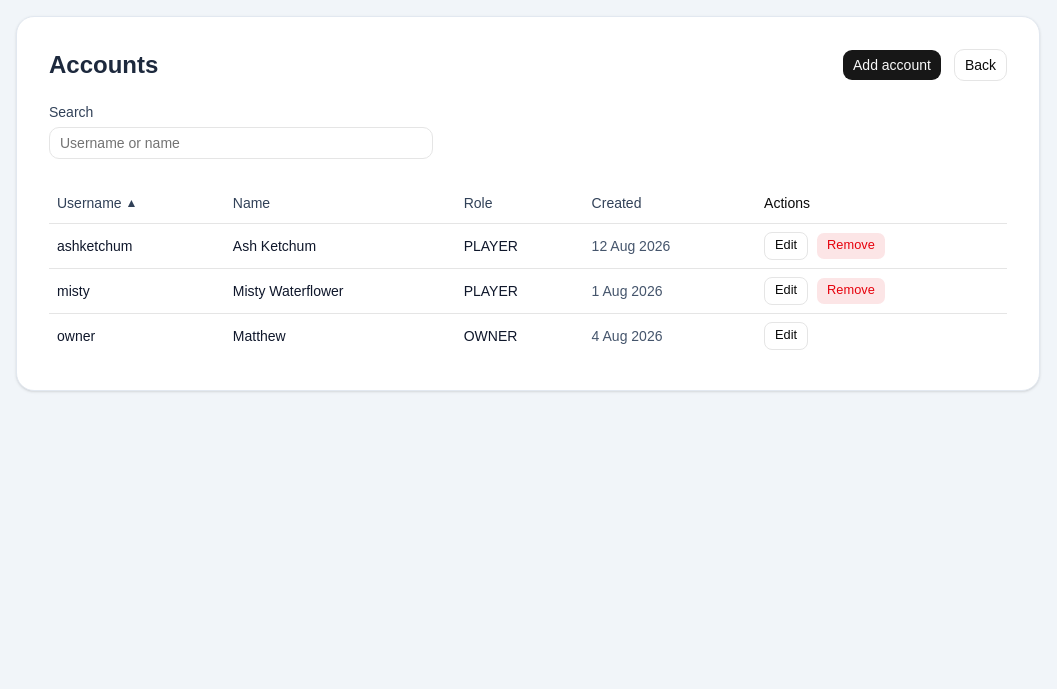
it: AccountsPage › refuses a password that is too short without sending anything at all
Expected: the text "ashketchum" is shown, [49,223,225,268]
Click the button "Add account" at (892, 65), box [842,49,942,81]
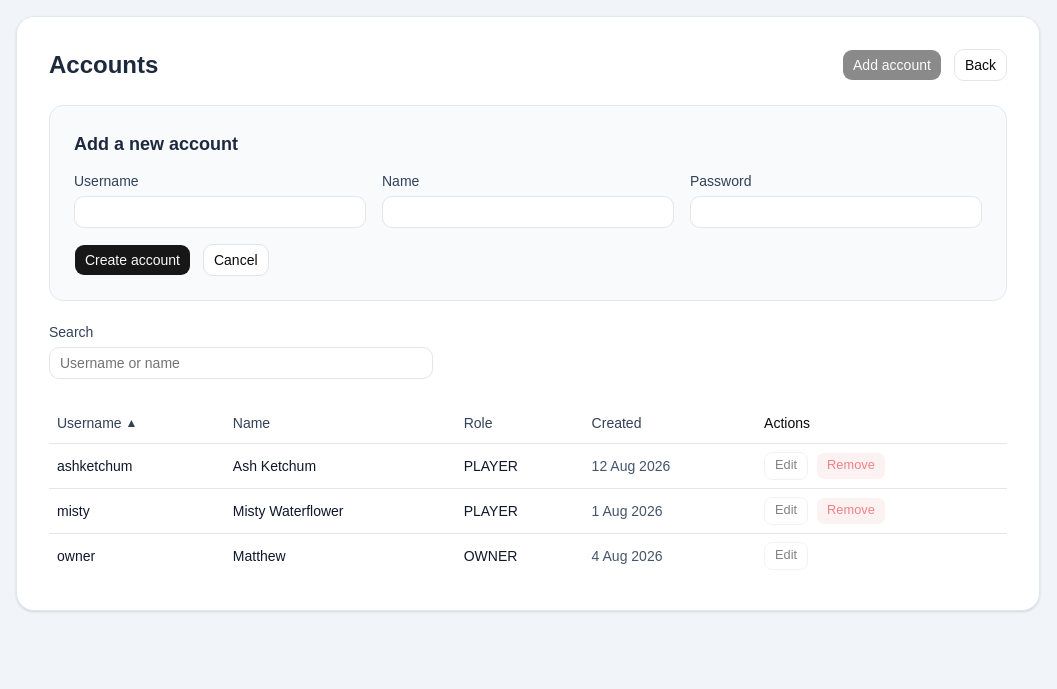
Type "brock" into the field labelled "Username" at (220, 212), box [74,196,366,228]
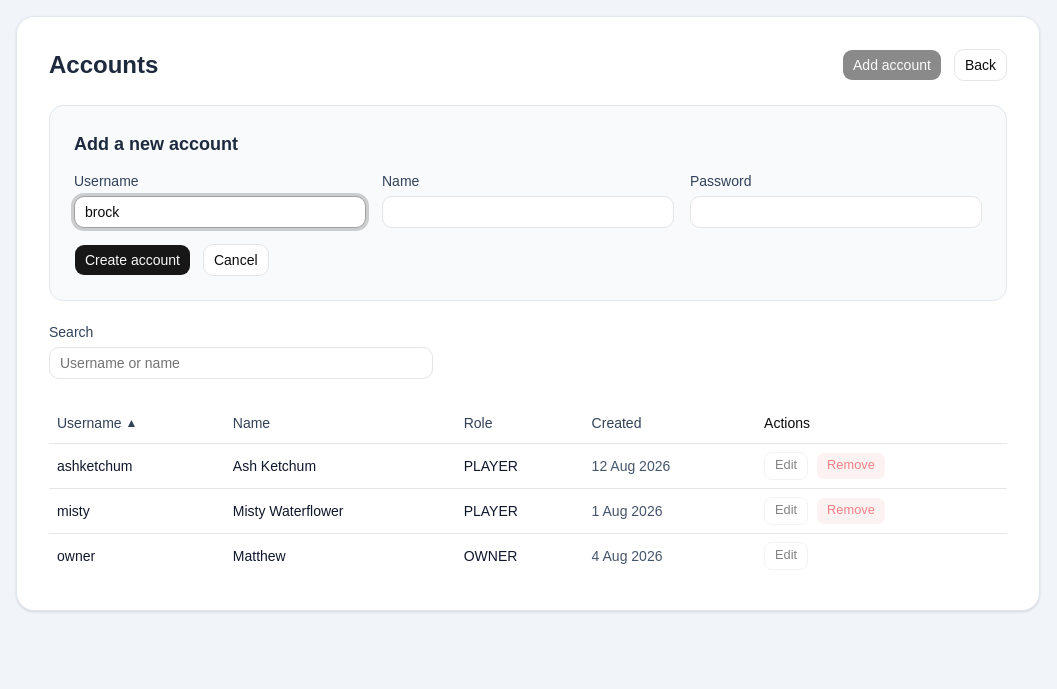
Type "Brock Harrison" into the field labelled "Name" at (528, 212), box [382,196,674,228]
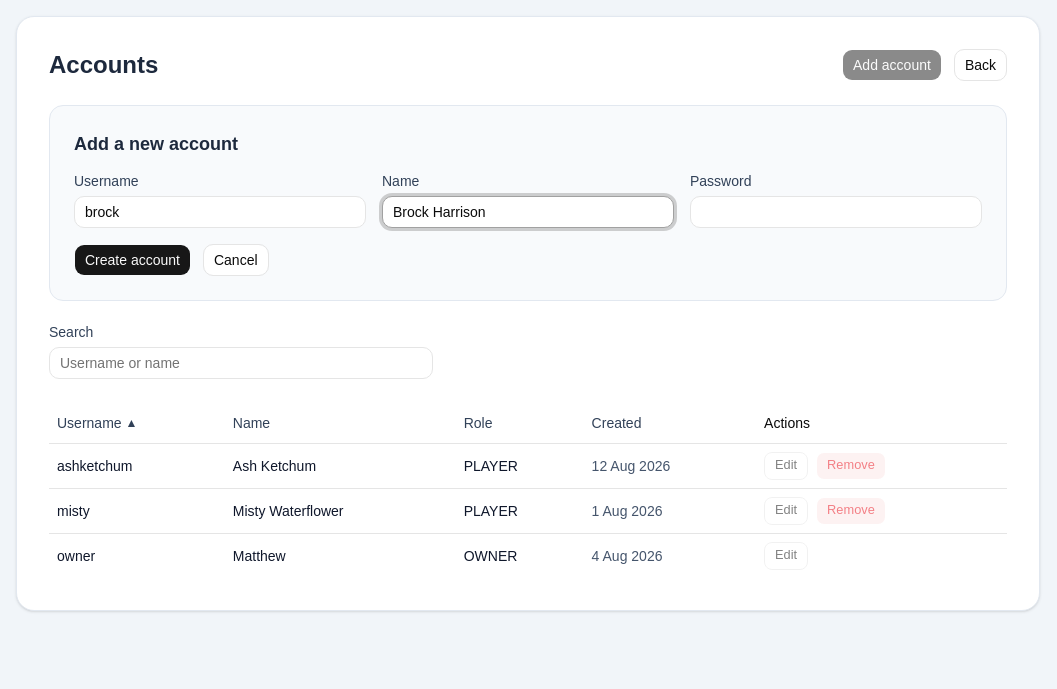
Type "short" into the password field labelled "Password" at (836, 212), box [690,196,982,228]
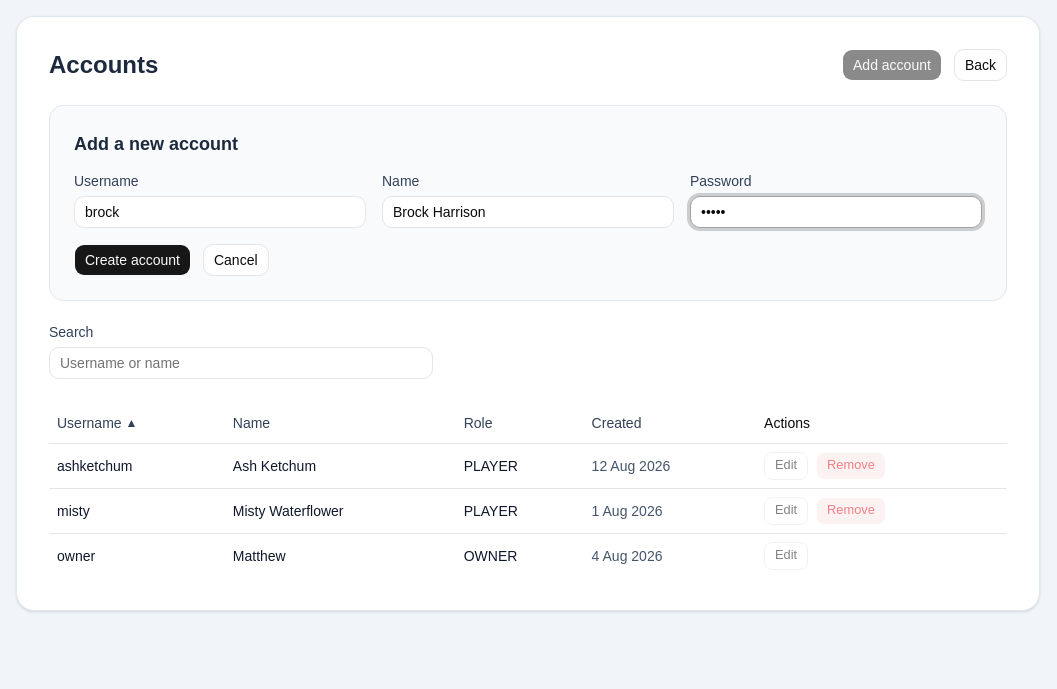
Click the button "Create account" at (132, 260), box [74,244,191,276]
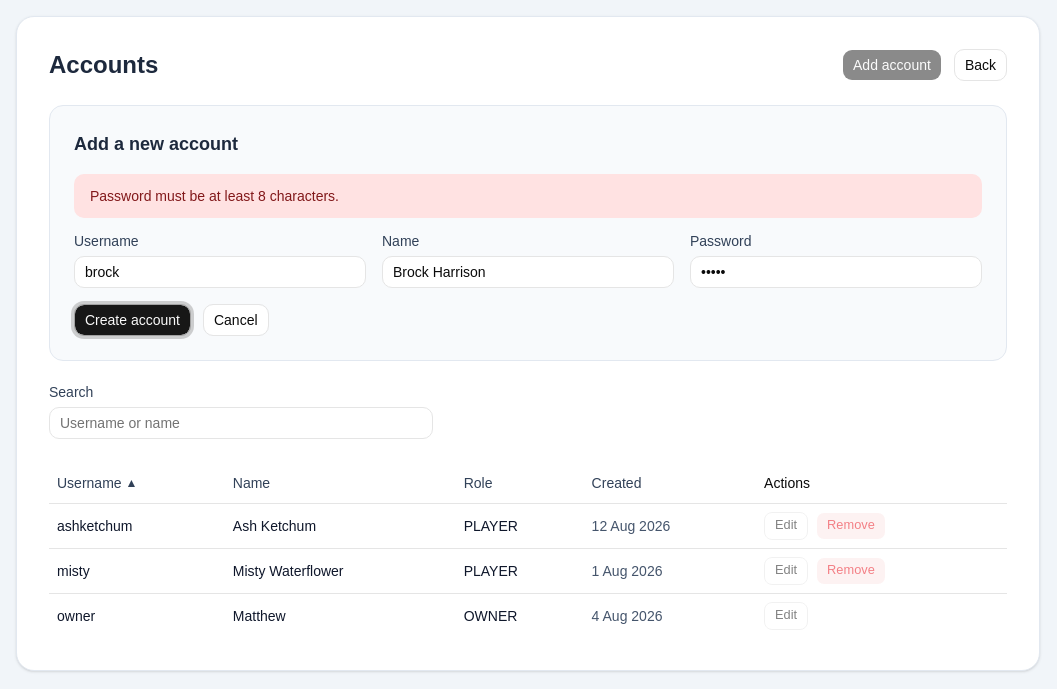
Expected: the message reads "Password must be at least 8 characters.", [90,188,339,204]
